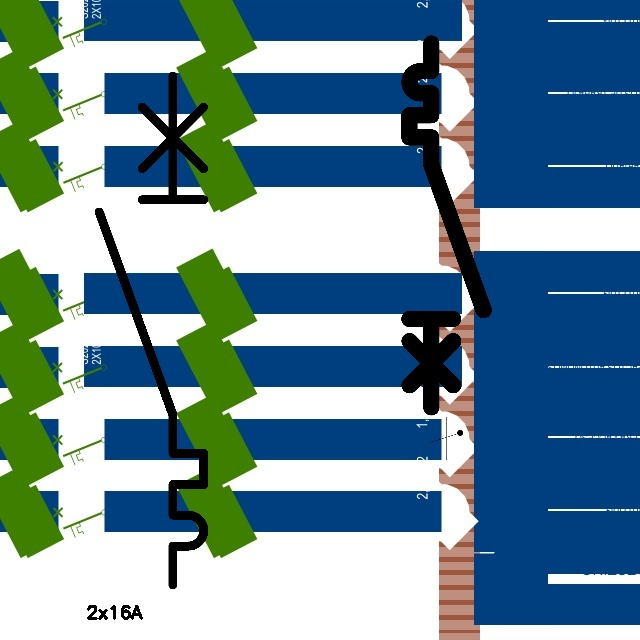interruptor_termomagnetico: (86, 63, 217, 598), (400, 34, 493, 416)
